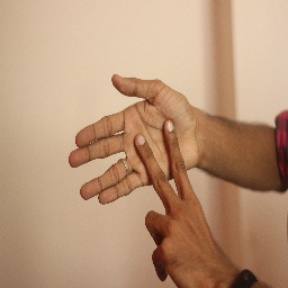N: (65, 72, 214, 280)
